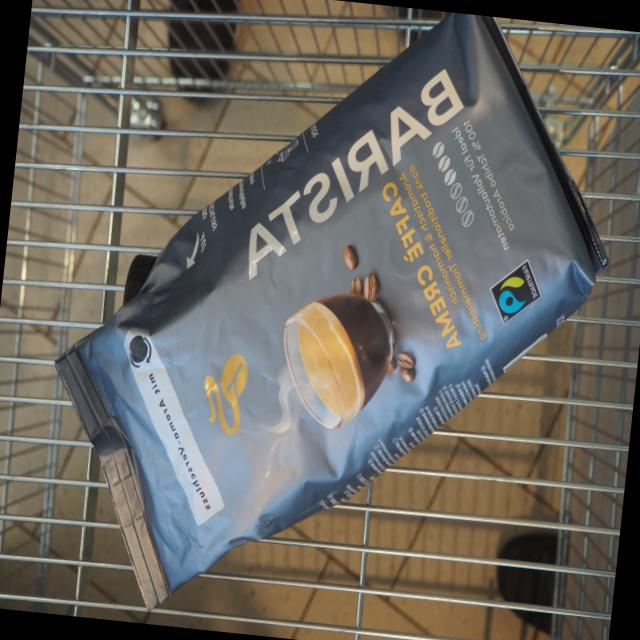Barista CC: (21, 0, 628, 640)
